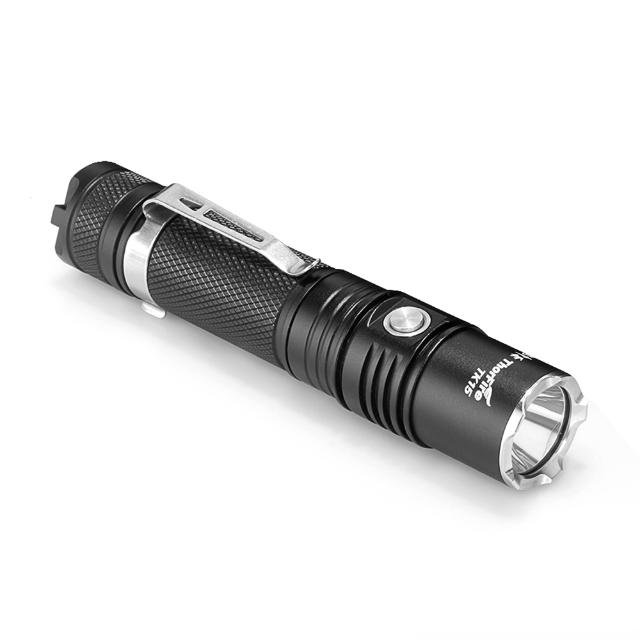Flashlight: (44, 148, 592, 504)
